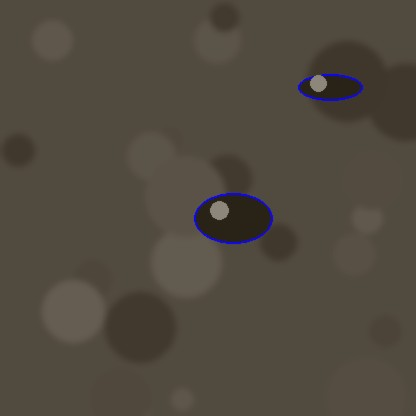gota: (194, 195, 272, 247), (298, 75, 362, 103)
